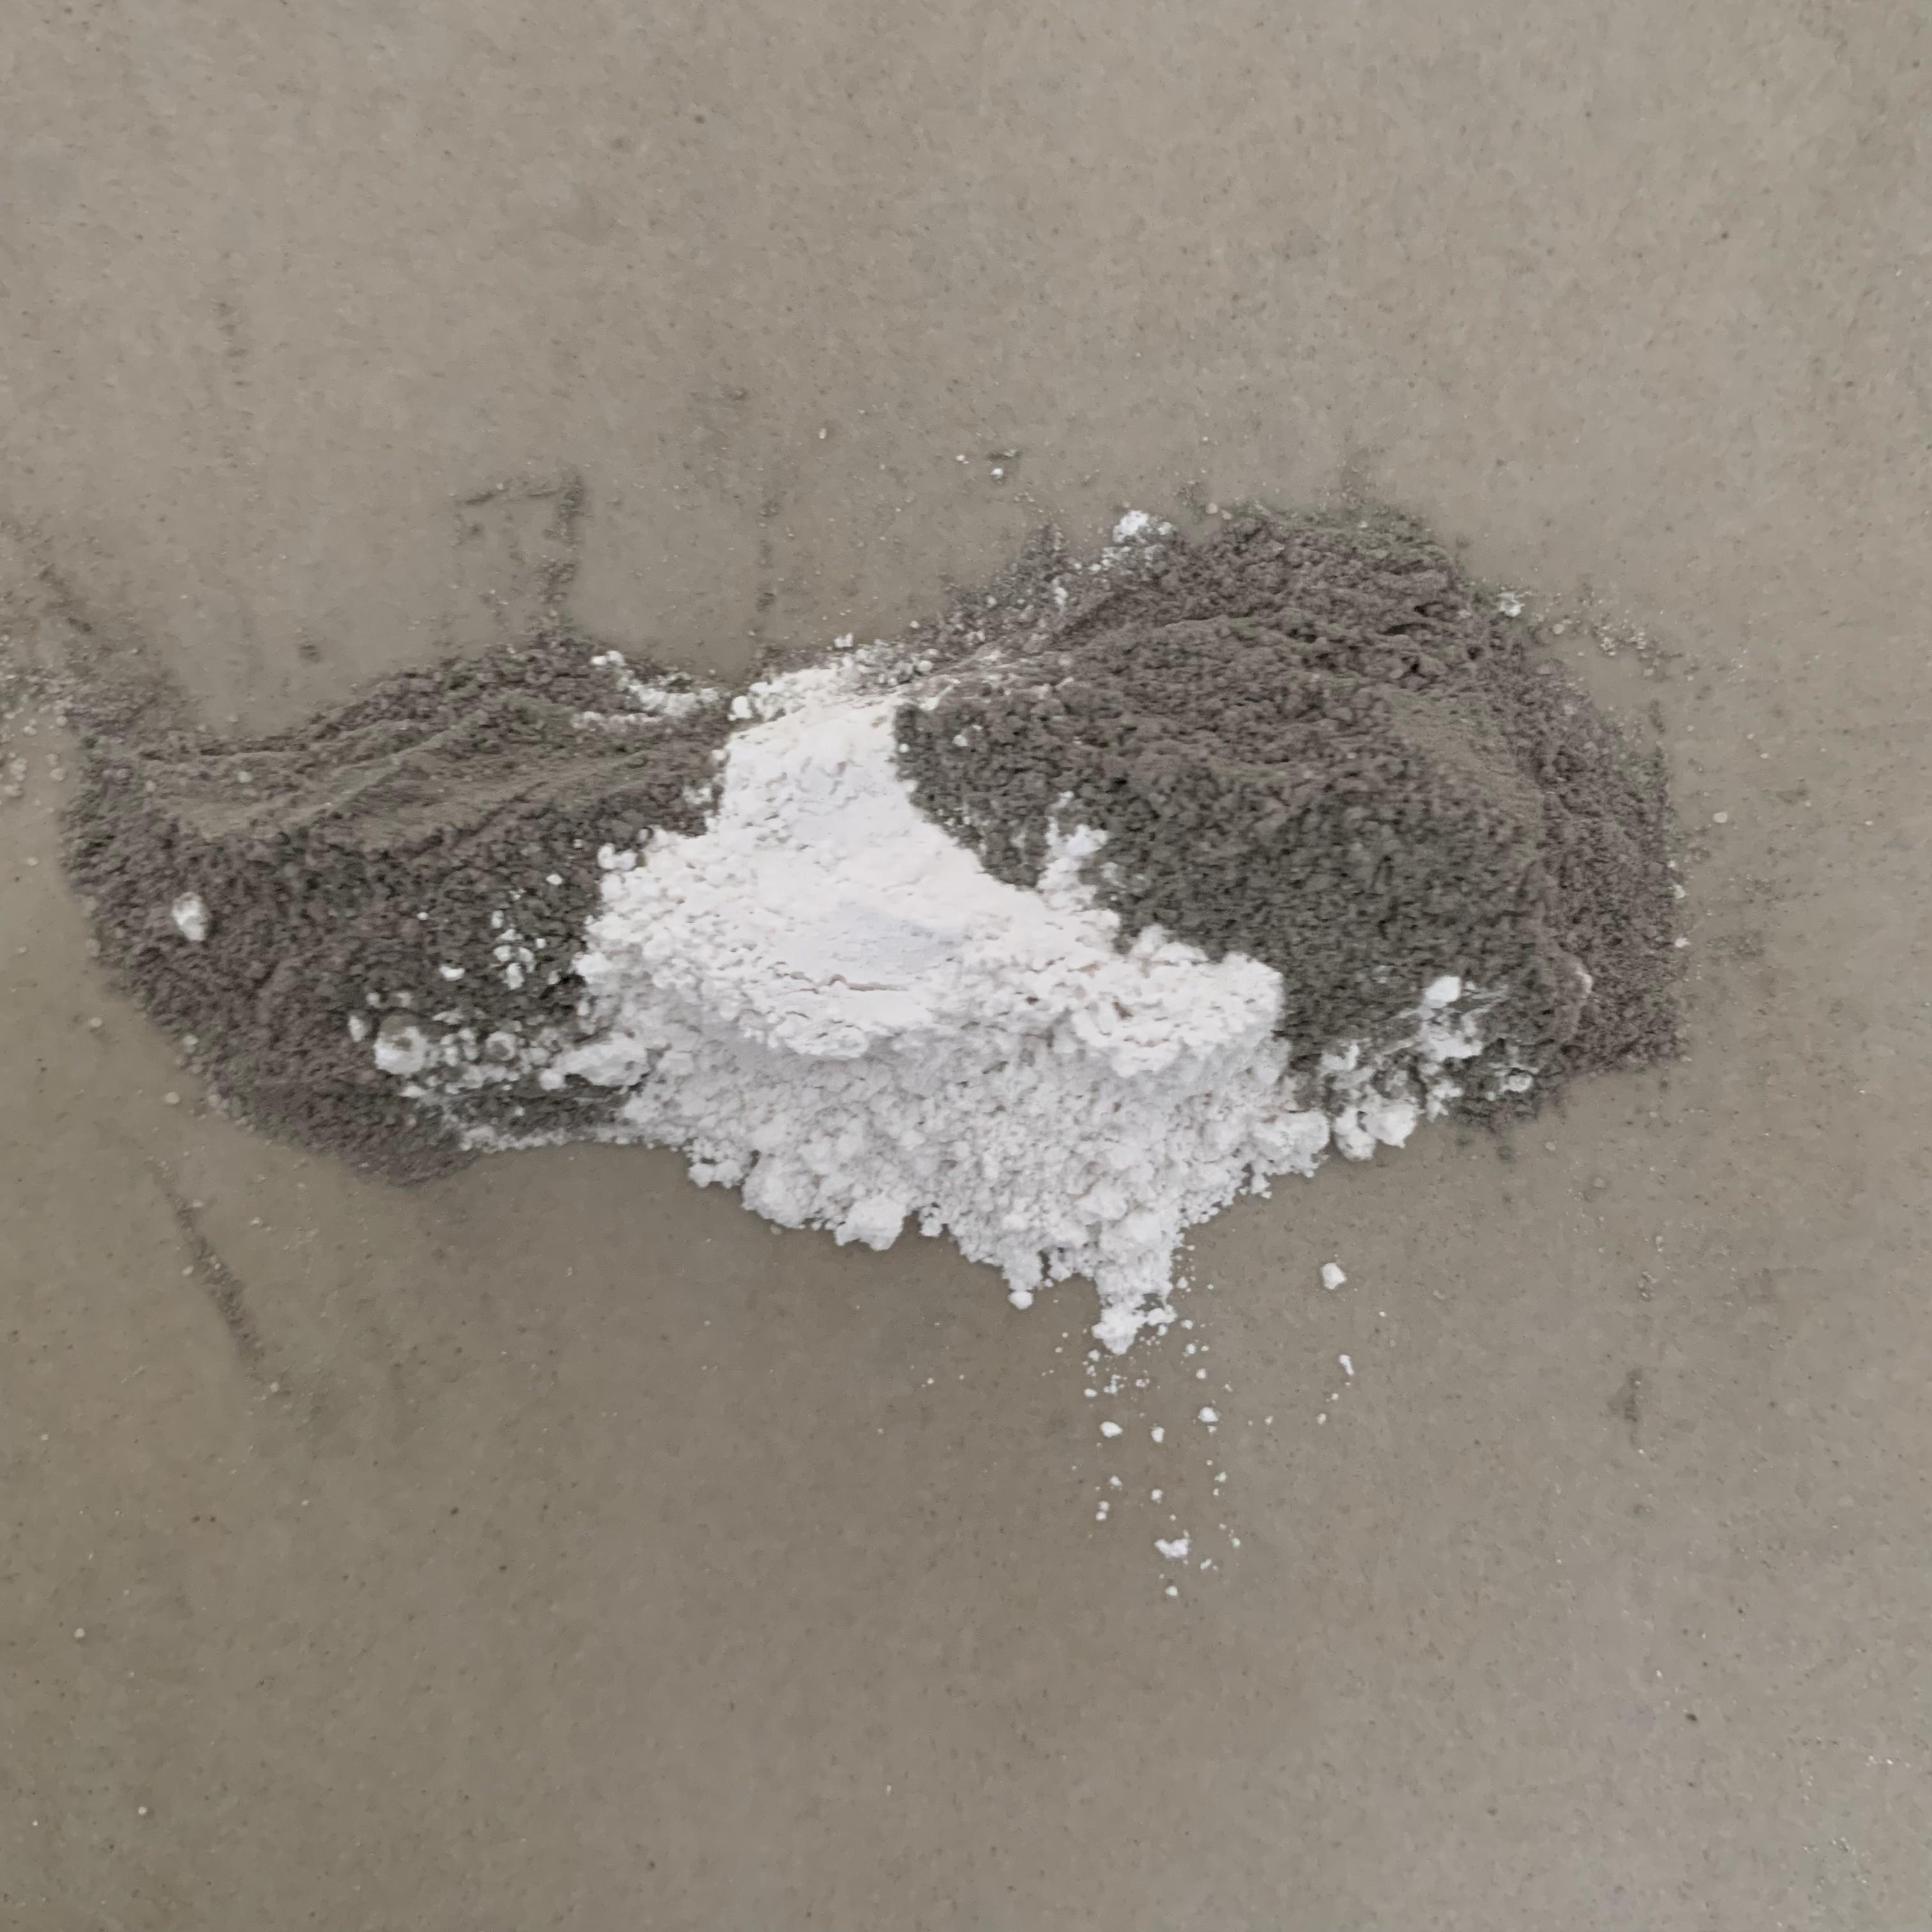ash pile: (0, 426, 1801, 1608)
